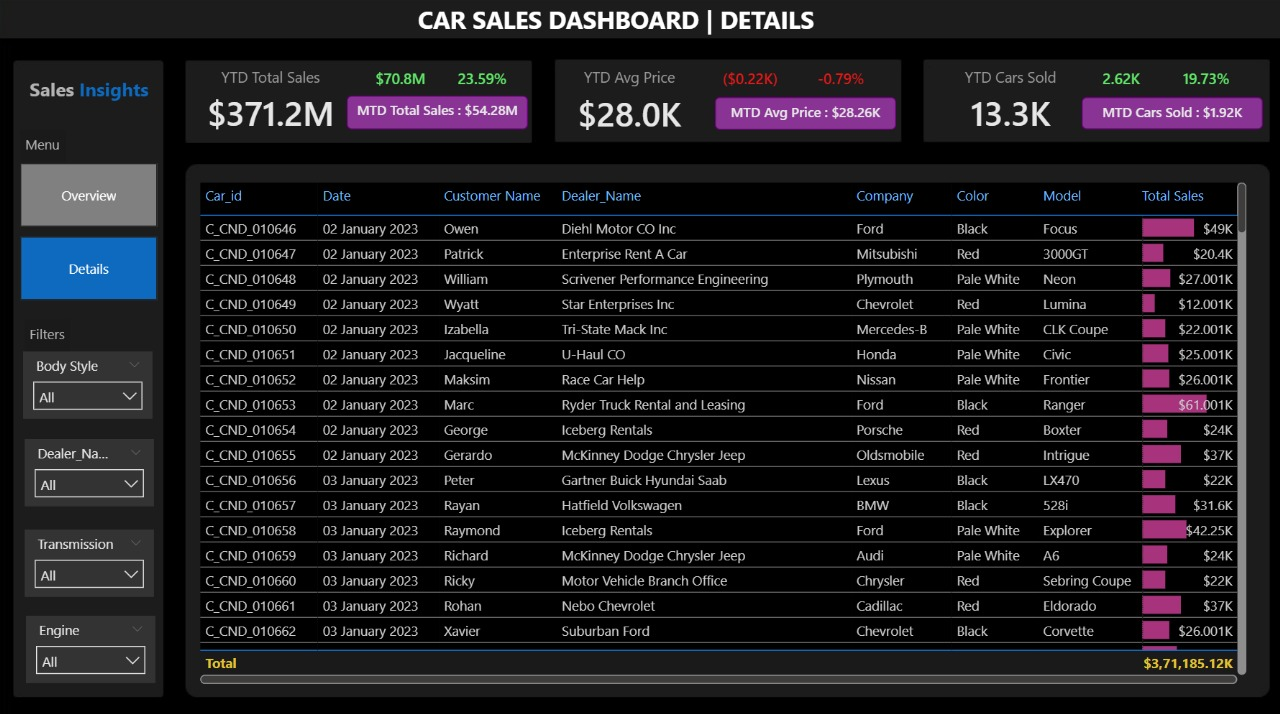

This screenshot's page, from the dashboard's own definition file:
{"tool":"powerbi","page":{"name":"Details","canvas":[1280,720],"ordinal":1},"visuals":[{"type":"card","title":"YTD Total Sales","fields":{"Values":["car_data.YTD Total Sales"]},"box":[186.9,68.1,168.8,72.5],"z":0},{"type":"card","fields":{"Values":["car_data.Sales Difference"]},"box":[355.6,66.9,89.4,30],"z":1000},{"type":"card","fields":{"Values":["car_data.YoY Sales Growth"]},"box":[437.5,62.5,88.8,38.8],"z":2000},{"type":"card","fields":{"Values":["car_data.MTD KPI"]},"box":[346.5,97.1,180,33.5],"z":3000},{"type":"card","title":"YTD Avg Price","fields":{"Values":["car_data.YTD Avg Price"]},"box":[542.5,68.3,170,73.3],"z":4000},{"type":"card","fields":{"Values":["car_data.Avg Price Diff"]},"box":[702.5,66.7,90,30],"z":5000},{"type":"card","fields":{"Values":["car_data.YoY Avg Price Growth"]},"box":[792.5,66.7,90,30],"z":6000},{"type":"card","fields":{"Values":["car_data.MTD Avg Price KPI"]},"box":[712.5,98.3,180,32.5],"z":7000},{"type":"card","title":"YTD Cars Sold","fields":{"Values":["car_data.YTD Cars Sold"]},"box":[921.4,68.6,170,72.9],"z":8000},{"type":"card","fields":{"Values":["car_data.Cars Sold Diff"]},"box":[1070.7,67.1,90,30],"z":9000},{"type":"card","fields":{"Values":["car_data.YoY Car Sold Growth"]},"box":[1155,67.1,90,30],"z":10000},{"type":"card","fields":{"Values":["car_data.MTD Cars Sold KPI"]},"box":[1076.4,97.9,180,32.1],"z":11000},{"type":"textbox","box":[413.1,0,453.9,45.9],"z":12000},{"type":"slicer","fields":{"Values":["car_data.Body Style"]},"box":[26.2,350.8,128.5,66.9],"z":13000},{"type":"slicer","fields":{"Values":["car_data.Dealer_Name"]},"box":[27.7,439.2,128.5,66.9],"z":14000},{"type":"slicer","fields":{"Values":["car_data.Engine"]},"box":[28.5,614.6,128.5,66.9],"z":15000},{"type":"slicer","fields":{"Values":["car_data.Transmission"]},"box":[27.7,528.5,128.5,66.9],"z":16000},{"type":"textbox","box":[27.5,320,45,31.2],"z":17000},{"type":"tableEx","fields":{"Values":["car_data.Car_id","car_data.Date","car_data.Customer Name","car_data.Dealer_Name","car_data.Company","car_data.Color","car_data.Model","car_data.Price ($)"]},"box":[195.7,178.6,1050,508.6],"z":18000},{"type":"textbox","box":[26.9,73.1,138.8,41.2],"z":19000},{"type":"pageNavigator","box":[22.5,165,136.2,137.5],"z":20000},{"type":"textbox","box":[22.5,131.2,45,31.2],"z":21000}]}

Visuals, with their boxes in screenshot pixels (x1, y1, x2, y2), scaled from the page's 1280x720 canvas onto the 1280x714 screenshot:
"YTD Total Sales" card: <bbox>187, 68, 356, 139</bbox>
card - car_data.Sales Difference: <bbox>356, 66, 445, 96</bbox>
card - car_data.YoY Sales Growth: <bbox>438, 62, 526, 100</bbox>
card - car_data.MTD KPI: <bbox>346, 96, 526, 130</bbox>
"YTD Avg Price" card: <bbox>542, 68, 712, 140</bbox>
card - car_data.Avg Price Diff: <bbox>702, 66, 792, 96</bbox>
card - car_data.YoY Avg Price Growth: <bbox>792, 66, 882, 96</bbox>
card - car_data.MTD Avg Price KPI: <bbox>712, 97, 892, 130</bbox>
"YTD Cars Sold" card: <bbox>921, 68, 1091, 140</bbox>
card - car_data.Cars Sold Diff: <bbox>1071, 67, 1161, 96</bbox>
card - car_data.YoY Car Sold Growth: <bbox>1155, 67, 1245, 96</bbox>
card - car_data.MTD Cars Sold KPI: <bbox>1076, 97, 1256, 129</bbox>
textbox: <bbox>413, 0, 867, 46</bbox>
slicer - car_data.Body Style: <bbox>26, 348, 155, 414</bbox>
slicer - car_data.Dealer_Name: <bbox>28, 436, 156, 502</bbox>
slicer - car_data.Engine: <bbox>28, 609, 157, 676</bbox>
slicer - car_data.Transmission: <bbox>28, 524, 156, 590</bbox>
textbox: <bbox>28, 317, 72, 348</bbox>
tableEx - car_data.Car_id x car_data.Date: <bbox>196, 177, 1246, 681</bbox>
textbox: <bbox>27, 72, 166, 113</bbox>
pageNavigator: <bbox>22, 164, 159, 300</bbox>
textbox: <bbox>22, 130, 68, 161</bbox>
